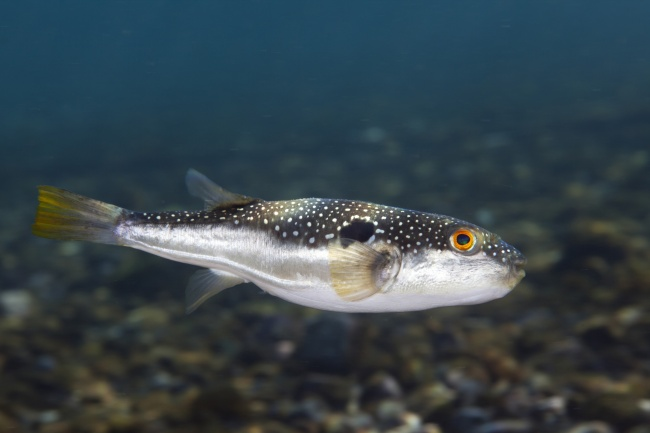kasago: (28, 154, 542, 322)
